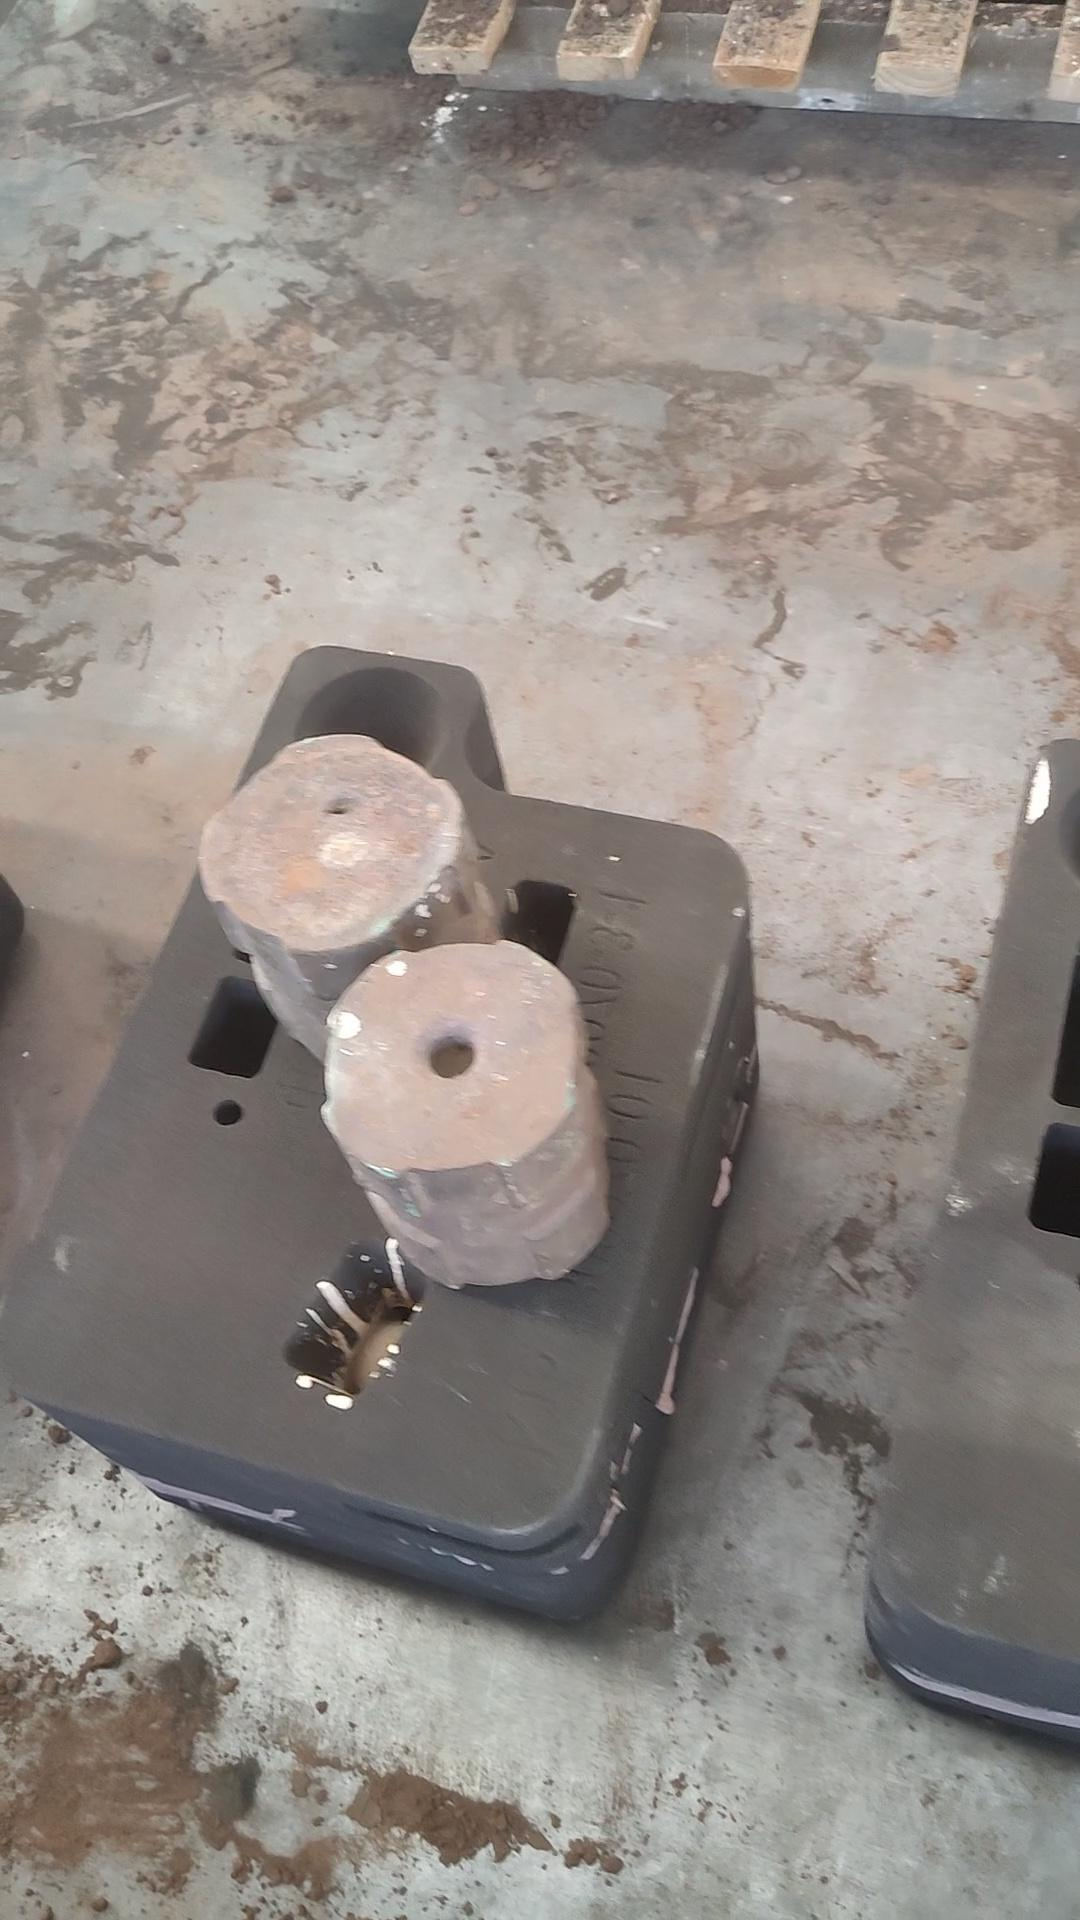pouring hole: (293, 666, 444, 795), (1054, 775, 1080, 890)
